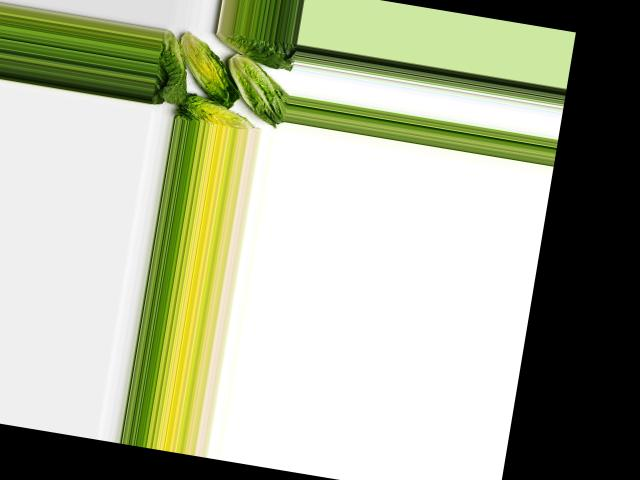lettuce: (150, 31, 198, 110)
